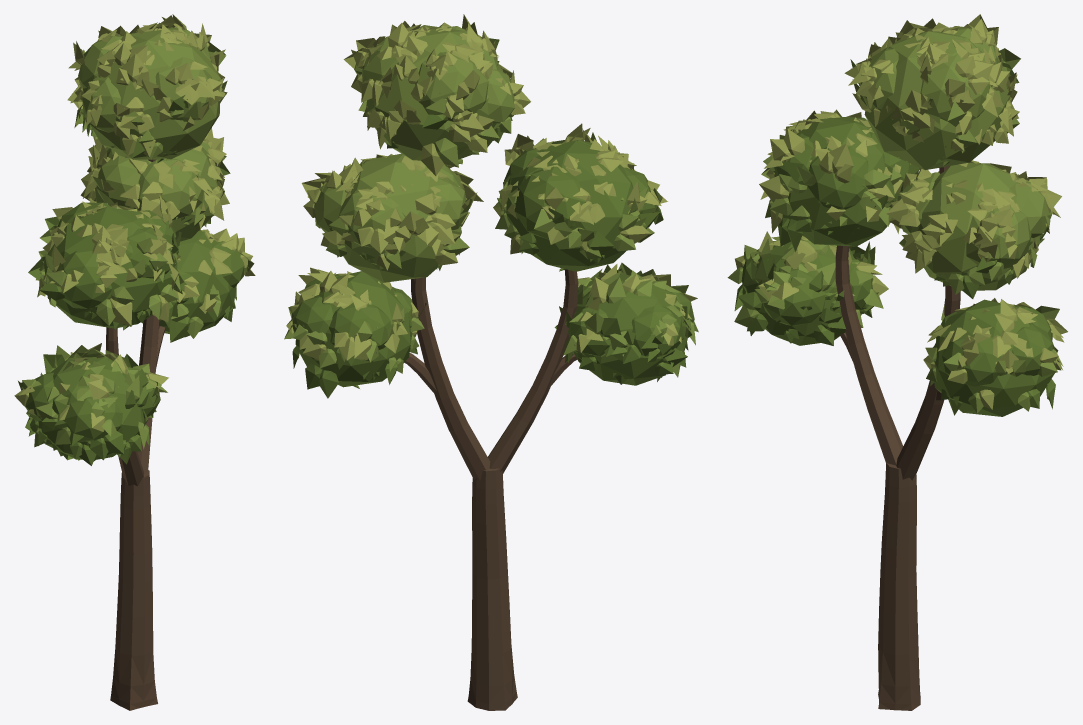
3 renders of one model, left to right at view 1: azimuth 30°, elevation 25°; view 2: azimuth 150°, elevation 25°; view 3: azimuth 270°, elevation 25°, orthographic. The views are drawn at different scales.
Visible parts, largest first — view 1: crown, trunk; view 2: crown, trunk; view 3: crown, trunk.
Boxes of the visible parts, x1,y1,x2,y2 form: crown: (14,14,255,465); trunk: (106,159,165,710); crown: (284,14,698,398); trunk: (404,269,578,710); crown: (727,14,1067,416); trunk: (835,166,960,710).
Size of the model in its own units: 3.02 by 6.35 by 2.83.
